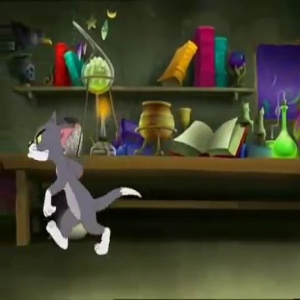Tom: (27, 113, 74, 165)
